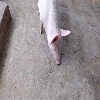heo: (37, 11, 71, 68)
